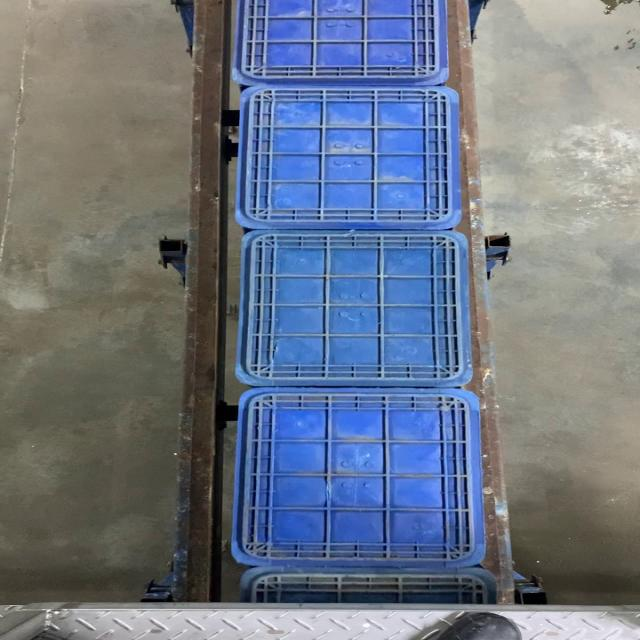Box: (231, 386, 483, 570), (235, 230, 474, 386), (237, 83, 463, 230)
